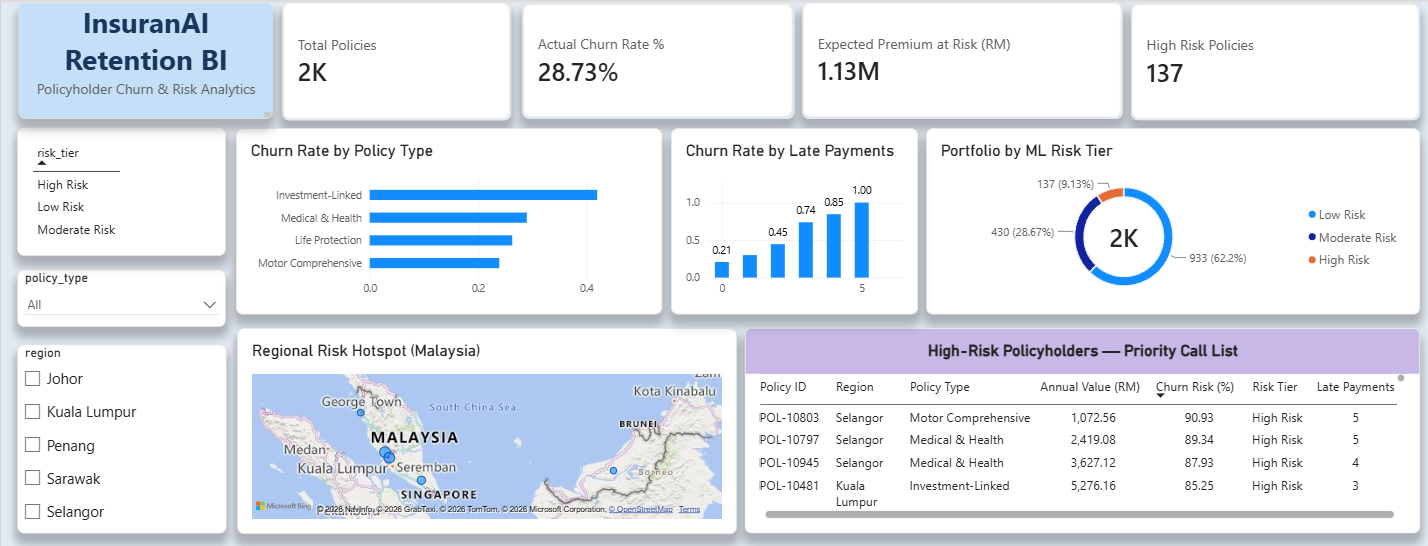

The dashboard page shown, as its layout file describes it:
{"tool":"powerbi","page":{"name":"Page 1","canvas":[1920,1080],"ordinal":0},"visuals":[{"type":"cardVisual","fields":{"Data":["policyholders_scored.Total Policies"]},"box":[481.7,0,261.7,135],"z":0},{"type":"cardVisual","fields":{"Data":["policyholders_scored.Actual Churn Rate %"]},"box":[755.8,1.7,310.8,131.7],"z":1000},{"type":"cardVisual","fields":{"Data":["policyholders_scored.Expected Premium at Risk (RM)"]},"box":[1075,0,366.7,133.3],"z":2000},{"type":"cardVisual","fields":{"Data":["policyholders_scored.High Risk Policies"]},"box":[1451.7,1.7,330,133.3],"z":3000},{"type":"slicer","fields":{"Values":["policyholders_scored.region"]},"box":[178.3,391.7,239.2,215.8],"z":4000},{"type":"slicer","fields":{"Values":["policyholders_scored.policy_type"]},"box":[179.2,305.8,238.8,65.9],"z":5000},{"type":"clusteredBarChart","title":"Churn Rate by Policy Type","fields":{"Category":["policyholders_scored.policy_type"],"Y":["policyholders_scored.Actual Churn Rate %"]},"box":[428.8,143.8,487.5,212.5],"z":6000},{"type":"donutChart","title":"Portfolio by ML Risk Tier","fields":{"Category":["policyholders_scored.risk_tier"],"Y":["policyholders_scored.Total Policies"]},"box":[1217.3,143.6,564.5,212.7],"z":7000},{"type":"map","title":"\tRegional Risk Hotspot (Malaysia)","fields":{"Category":["policyholders_scored.region"],"Size":["policyholders_scored.Expected Premium at Risk (RM)"]},"box":[430,372.5,571.2,235],"z":8000},{"type":"tableEx","title":"\tHigh-Risk Policyholders — Priority Call List","fields":{"Values":["policyholders_scored.policy_id","policyholders_scored.region","policyholders_scored.policy_type","Sum(policyholders_scored.annual_value_rm)","Sum(policyholders_scored.predicted_churn_pct)","policyholders_scored.risk_tier","Sum(policyholders_scored.late_payments)"]},"box":[1010,372.7,771.8,234.5],"z":9000},{"type":"tableEx","fields":{"Values":["policyholders_scored.risk_tier"]},"box":[179.2,143.3,238.6,147.1],"z":10000},{"type":"clusteredColumnChart","title":"\tChurn Rate by Late Payments","fields":{"Category":["policyholders_scored.late_payments"],"Y":["policyholders_scored.Actual Churn Rate %"]},"box":[925,143.8,282.5,212.5],"z":11000},{"type":"textbox","title":"InsuranAI Retention BI","box":[180,0,290,133.3],"z":11001}]}

Visuals, with their boxes on the page's 1920x1080 design canvas (x1, y1, x2, y2). These are canvas units, not pixel positions in the 1428x546 screenshot, which may show the page scaled, cropped or inside an application window:
cardVisual - policyholders_scored.Total Policies: x1=482, y1=0, x2=743, y2=135
cardVisual - policyholders_scored.Actual Churn Rate %: x1=756, y1=2, x2=1067, y2=133
cardVisual - policyholders_scored.Expected Premium at Risk (RM): x1=1075, y1=0, x2=1442, y2=133
cardVisual - policyholders_scored.High Risk Policies: x1=1452, y1=2, x2=1782, y2=135
slicer - policyholders_scored.region: x1=178, y1=392, x2=418, y2=608
slicer - policyholders_scored.policy_type: x1=179, y1=306, x2=418, y2=372
"Churn Rate by Policy Type" clusteredBarChart: x1=429, y1=144, x2=916, y2=356
"Portfolio by ML Risk Tier" donutChart: x1=1217, y1=144, x2=1782, y2=356
"	Regional Risk Hotspot (Malaysia)" map: x1=430, y1=372, x2=1001, y2=608
"	High-Risk Policyholders — Priority Call List" tableEx: x1=1010, y1=373, x2=1782, y2=607
tableEx - policyholders_scored.risk_tier: x1=179, y1=143, x2=418, y2=290
"	Churn Rate by Late Payments" clusteredColumnChart: x1=925, y1=144, x2=1208, y2=356
"InsuranAI Retention BI" textbox: x1=180, y1=0, x2=470, y2=133
